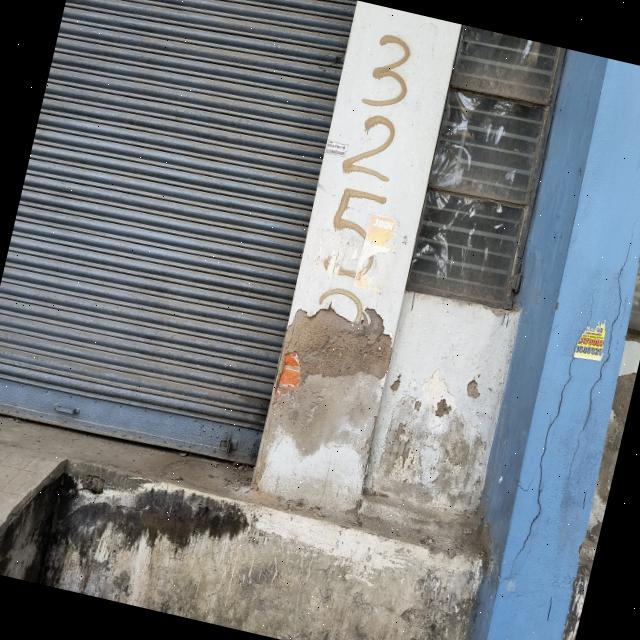crack: (511, 286, 595, 567), (566, 218, 637, 485)
peeling: (252, 308, 391, 488), (364, 367, 501, 511)
